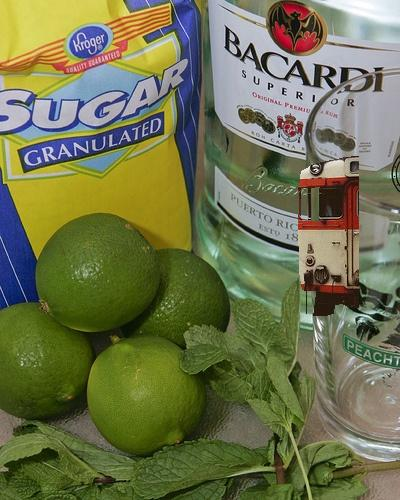tampered: (299, 157, 359, 316)
